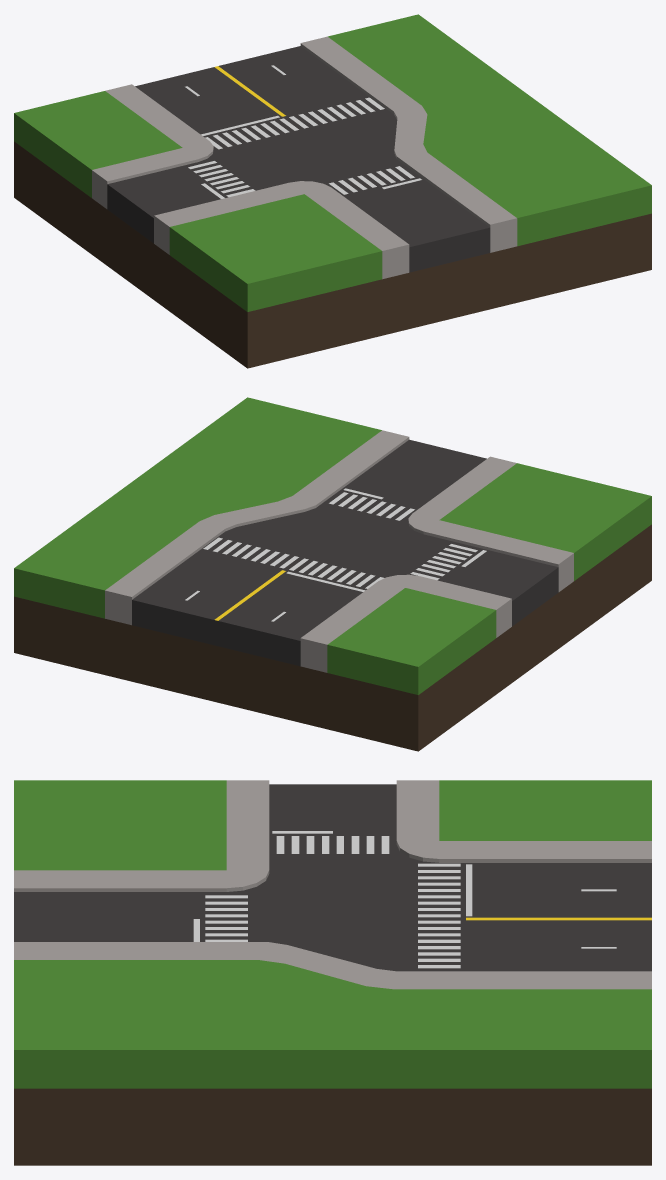
File: tiles_tile-road-to-mainroad-intersection-t.fbx
3 views of the same model, one above another, from view 1: azimuth 30°, elevation 25°; view 2: azimuth 150°, elevation 25°; view 3: azimuth 270°, elevation 25° (orthographic). The views are drawn at different scales.
Visible parts, largest first — view 1: tiles_tile_road_to_mainroad_intersection_t; view 2: tiles_tile_road_to_mainroad_intersection_t; view 3: tiles_tile_road_to_mainroad_intersection_t.
Part boxes in pixels (x1,y1,x2,y2): tiles_tile_road_to_mainroad_intersection_t: (14,14,651,368); tiles_tile_road_to_mainroad_intersection_t: (14,397,651,751); tiles_tile_road_to_mainroad_intersection_t: (14,780,651,1165).
Bounding box in the file's own units: 200 × 40 × 200.
